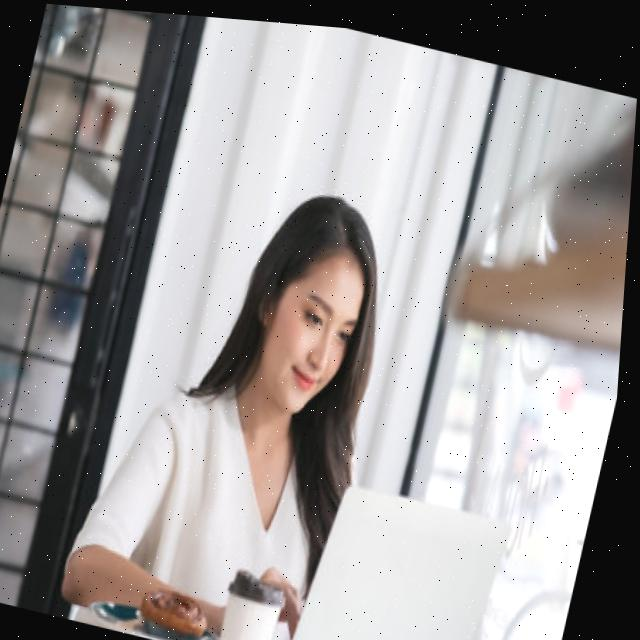notebook-person: (54, 122, 586, 640)
